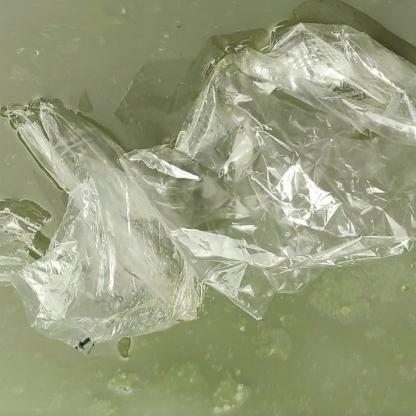Trash: (0, 19, 416, 357)
